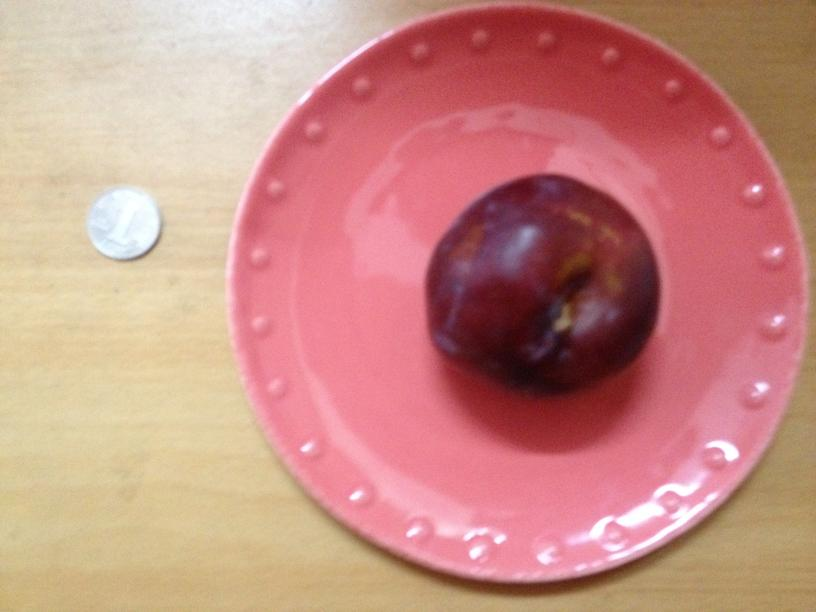coin: (82, 183, 162, 259)
plum: (425, 168, 664, 393)
